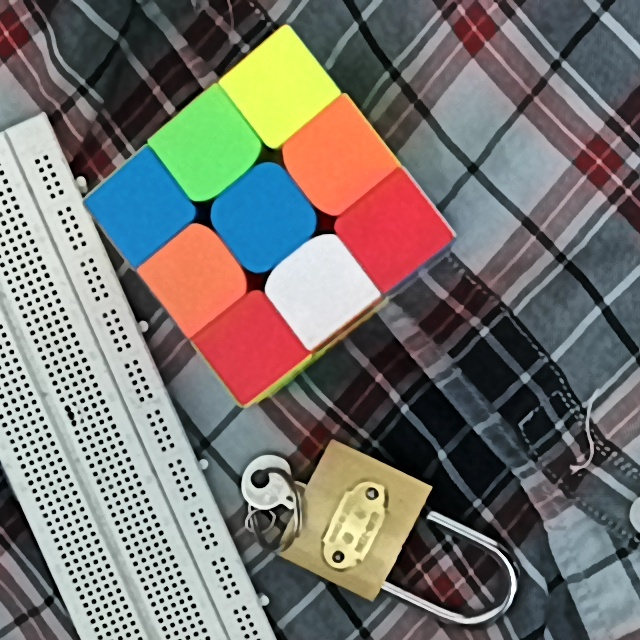tile: (303, 126, 371, 188), (357, 201, 425, 262), (229, 190, 297, 247), (218, 315, 281, 374), (112, 176, 171, 237), (176, 119, 240, 175), (164, 251, 227, 307), (246, 63, 311, 115), (290, 260, 349, 316)
